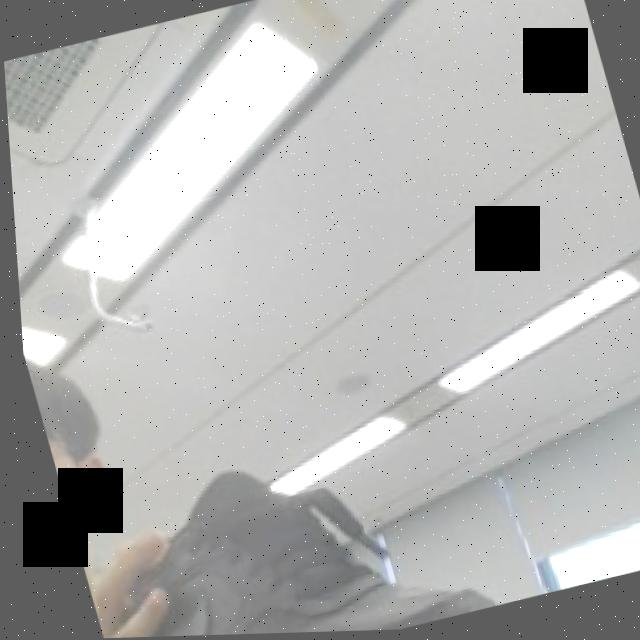shoe: (97, 415, 519, 638)
